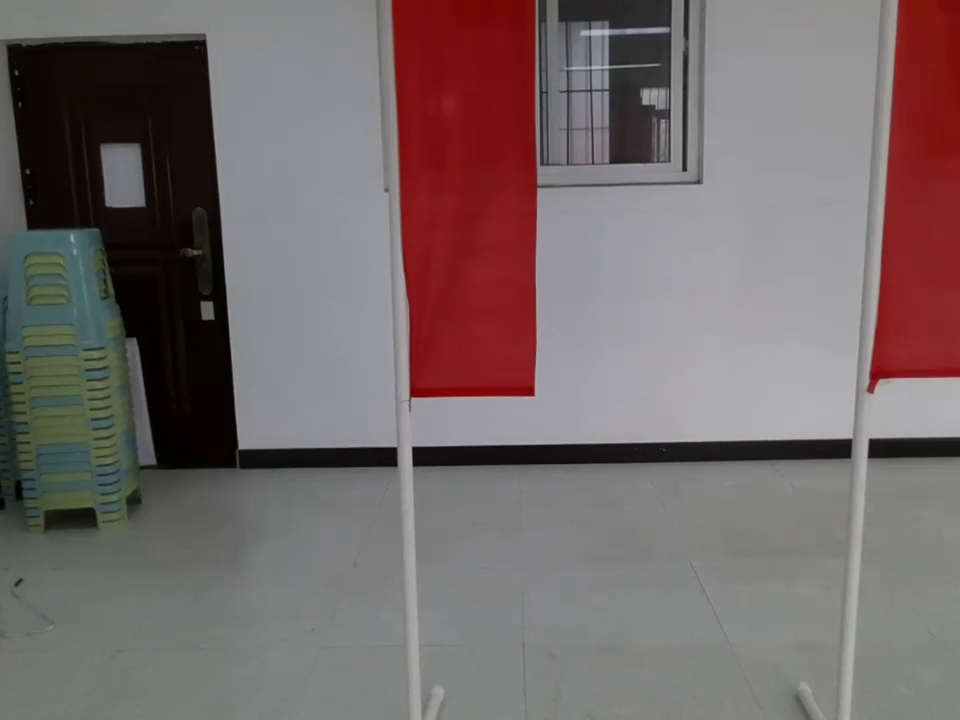qi: (373, 1, 559, 421), (845, 4, 960, 413)
